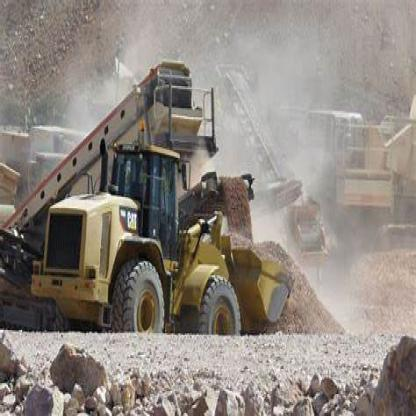bull_dozer/loader/grader: (33, 125, 296, 346)
